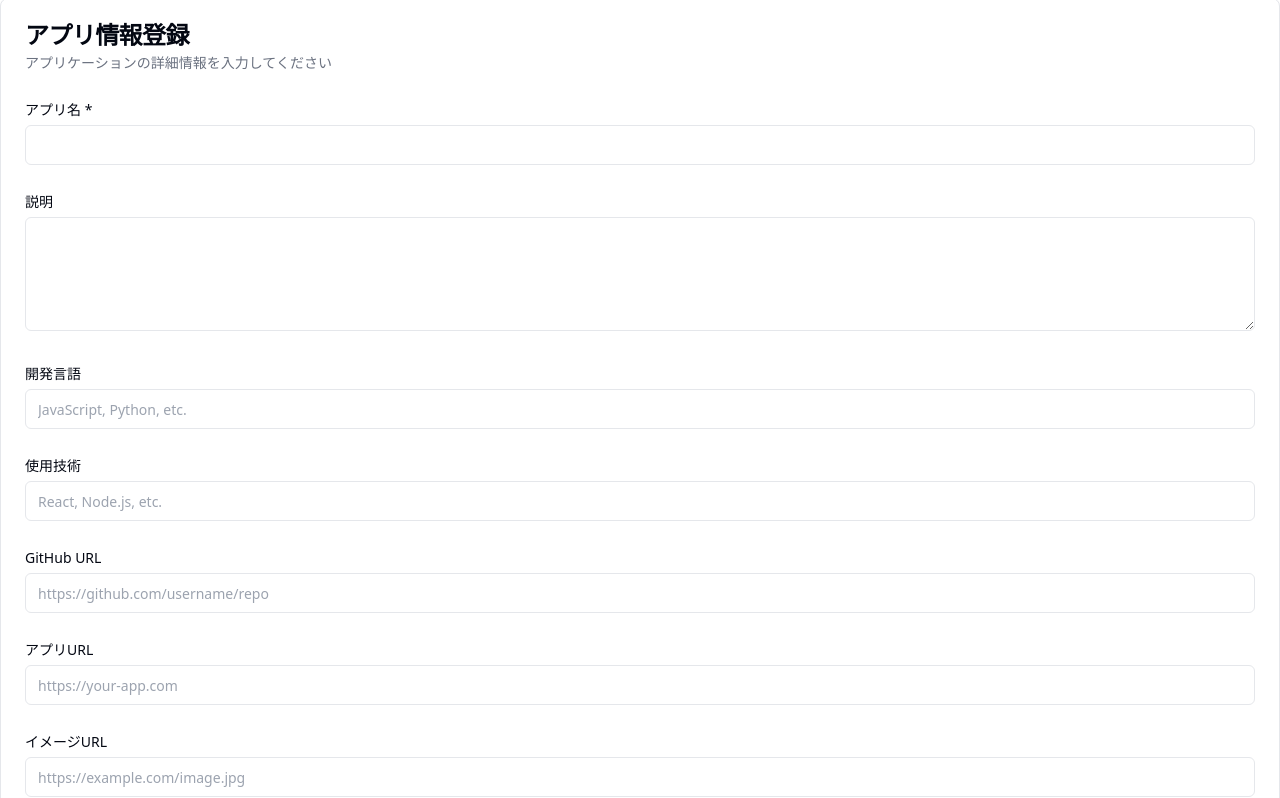
AppForm › GitHubのURLバリデーションが機能すること
Type "https://invalid-url.com" into the field labelled "GitHub URL".
click(640, 593); type("https://invalid-url.com")  # box [25,573,1255,613]
(page scrolled)
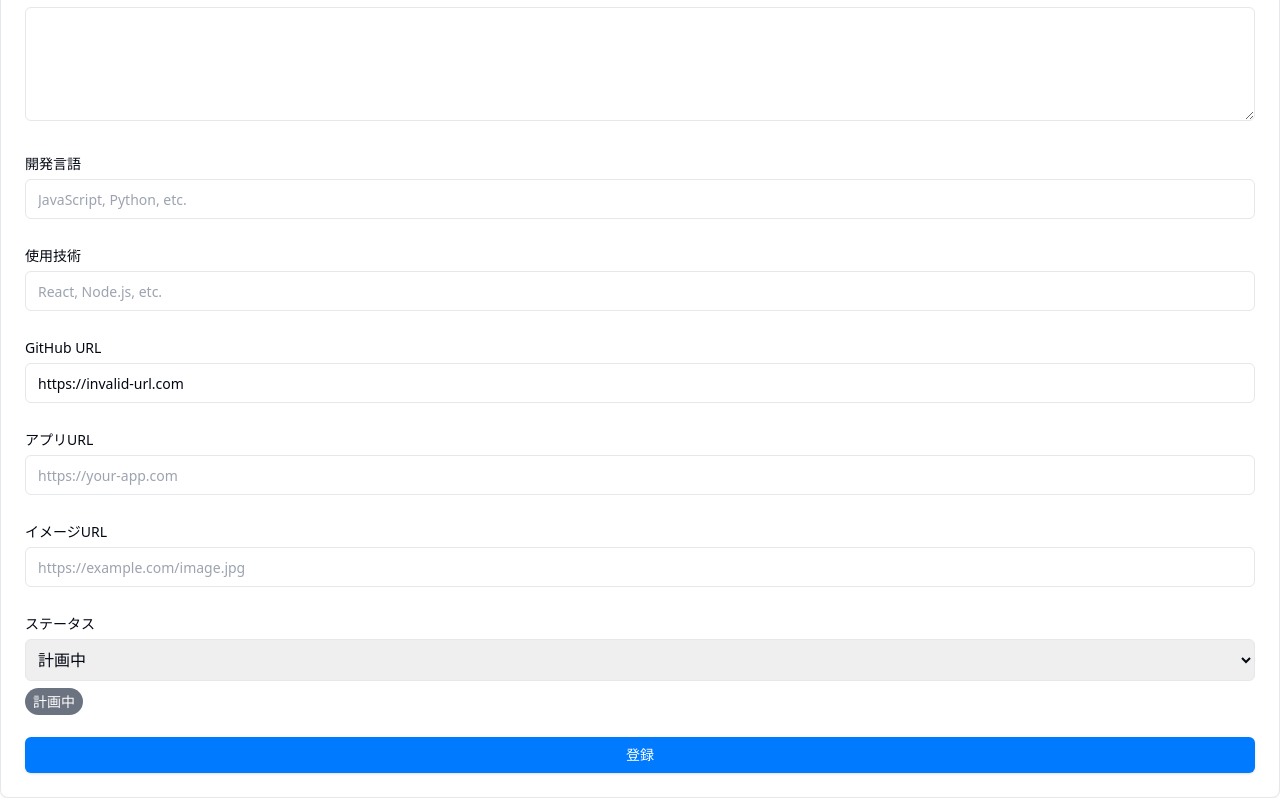
Click the button "登録".
click(640, 755)  # box [25,737,1255,773]
(page scrolled)
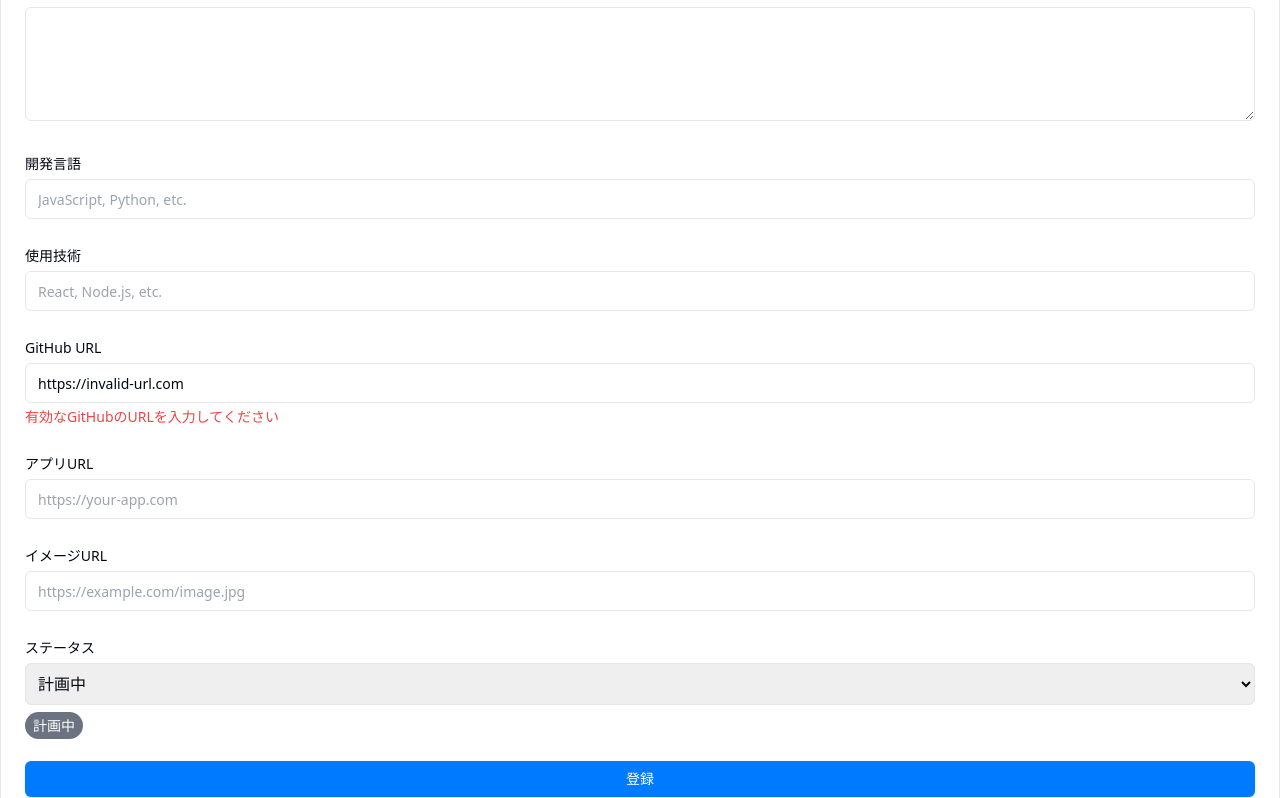
Check: the text "有効なGitHubのURLを入力してください" is shown, box [25,407,279,426]
